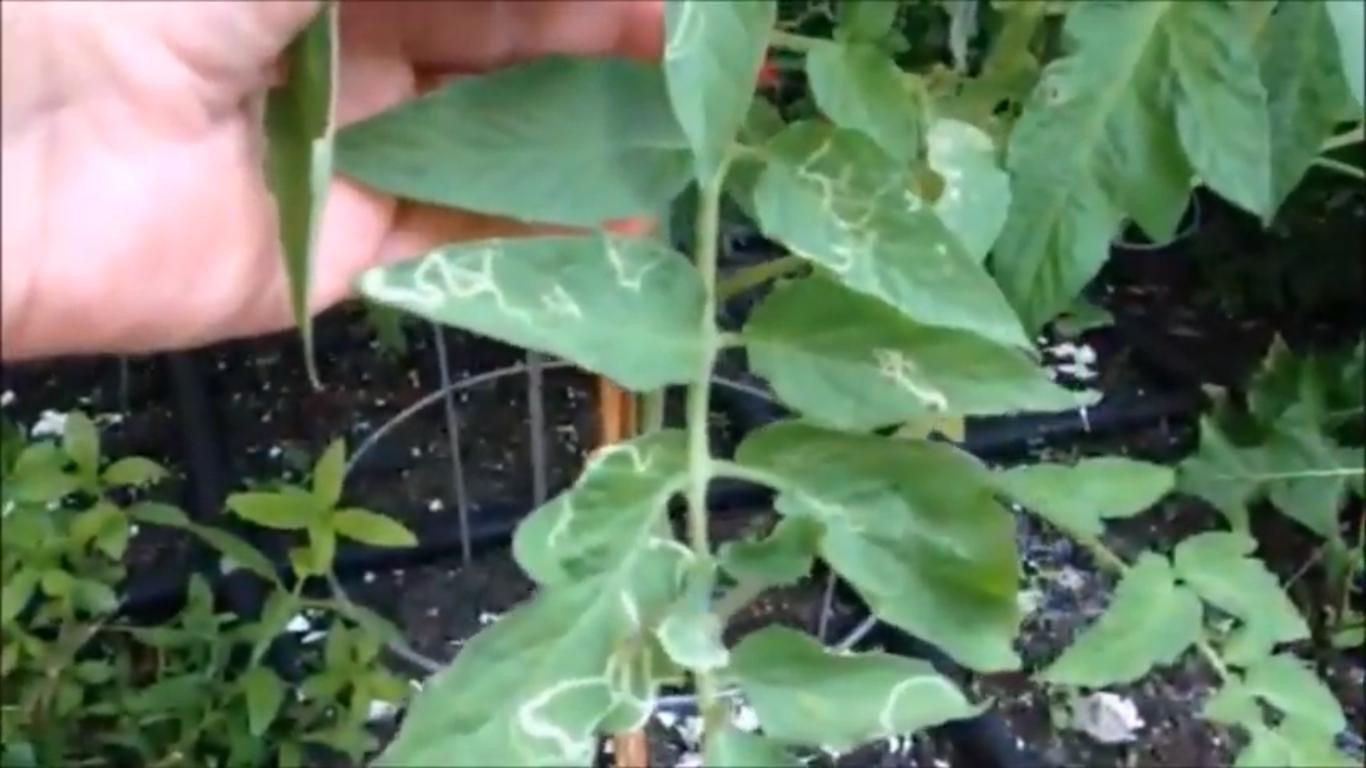Leaf_Miner: (374, 422, 694, 768), (750, 116, 1052, 360), (350, 228, 708, 396), (746, 272, 1106, 434), (724, 624, 994, 760)
